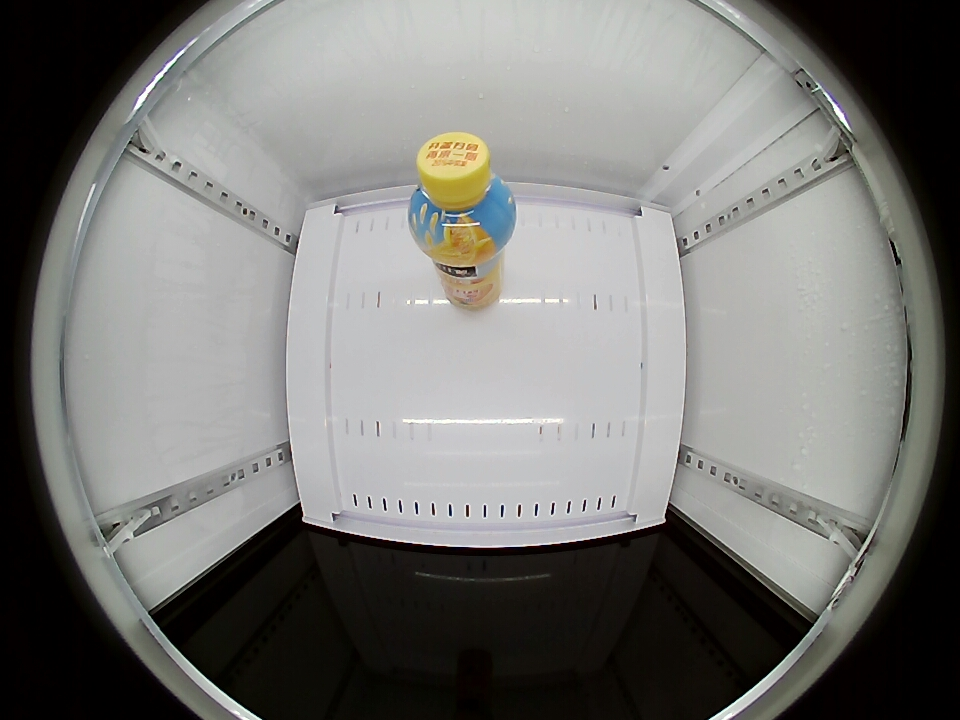guolicheng: (408, 132, 517, 259)
